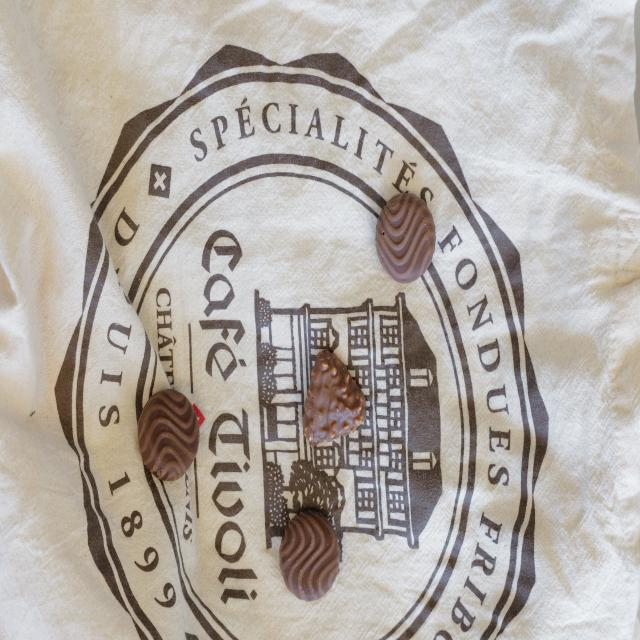Noir_authentique: (137, 388, 200, 482), (280, 510, 341, 601), (376, 194, 436, 284)
Triangolo: (304, 349, 368, 447)
